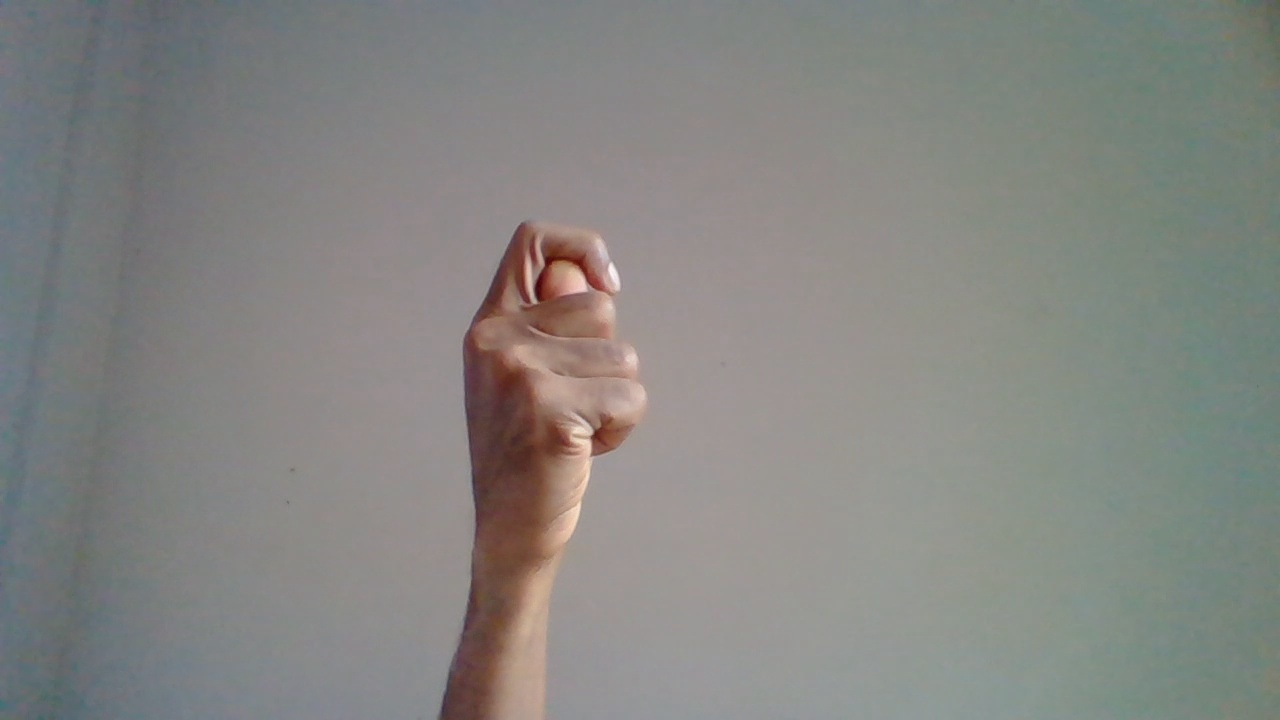che: (454, 218, 650, 681)
